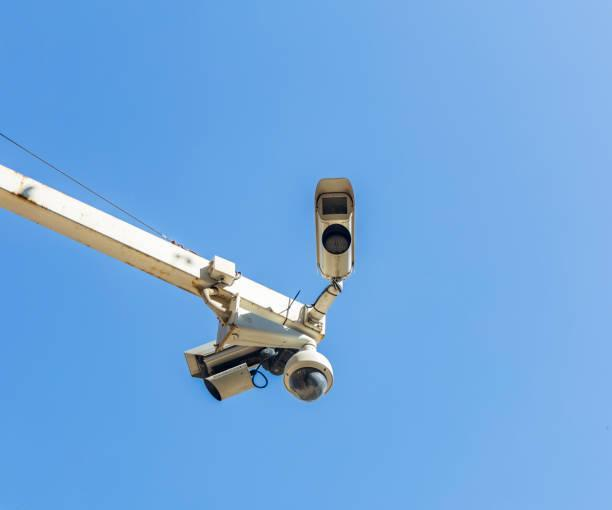camera: (150, 325, 350, 411), (289, 166, 389, 288)
